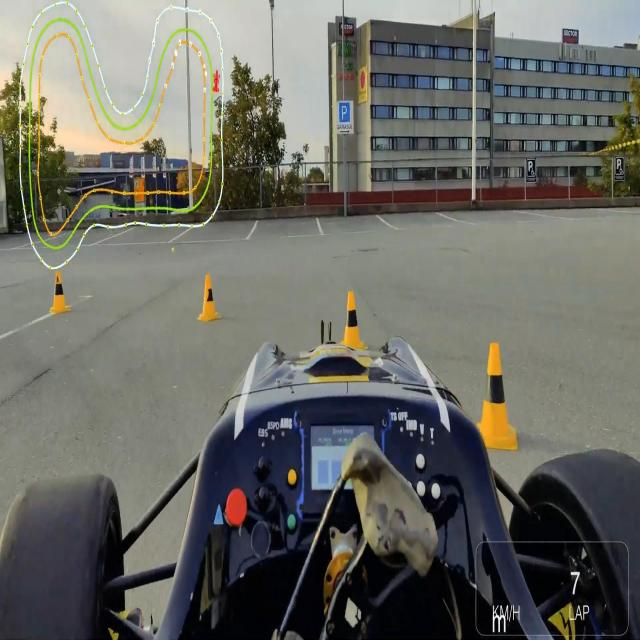yellow_cone: (472, 339, 522, 460), (182, 264, 226, 332), (336, 286, 369, 362), (42, 268, 74, 324)
